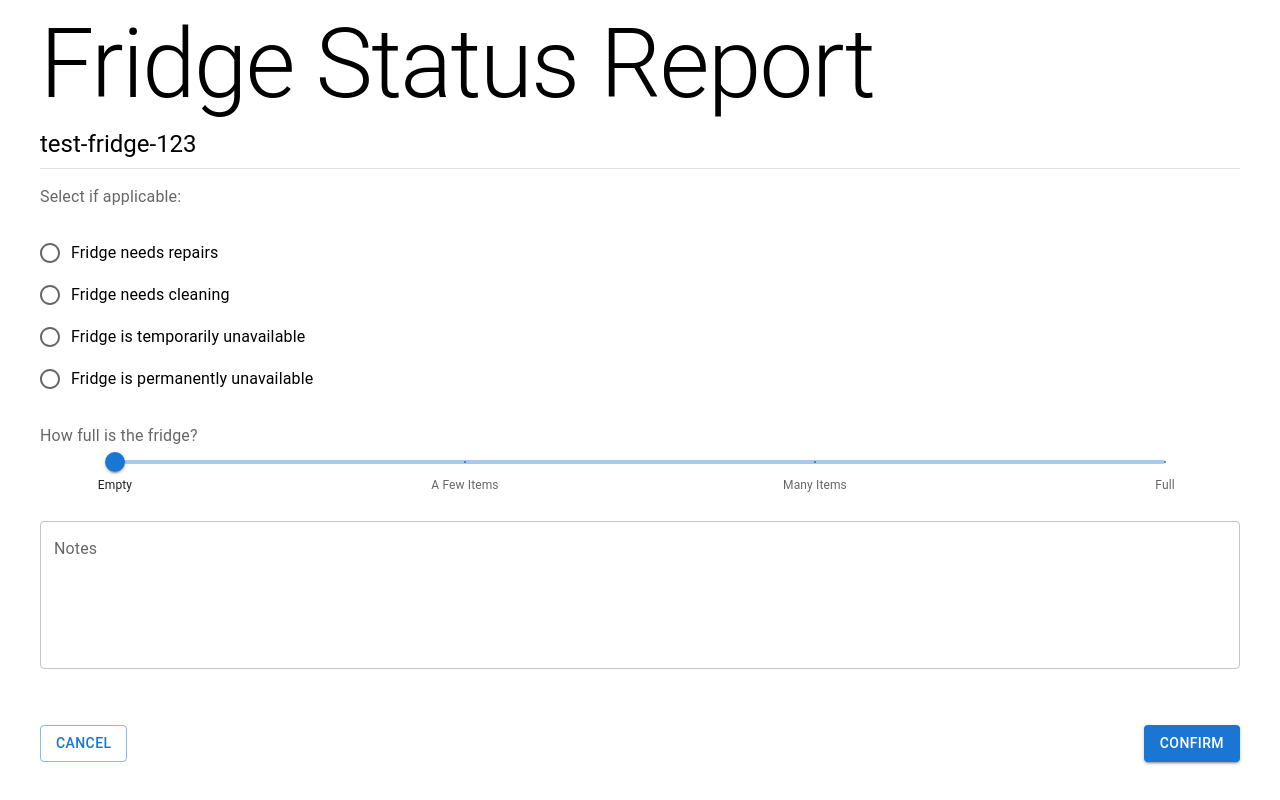
Test: FridgeReportPage › shows error feedback on fetch error
What coordinates should you click on to do the following:
click the button with aria-label "Submit status update"
I would click on:
 (1192, 743)
Its box is [1144, 725, 1240, 762].
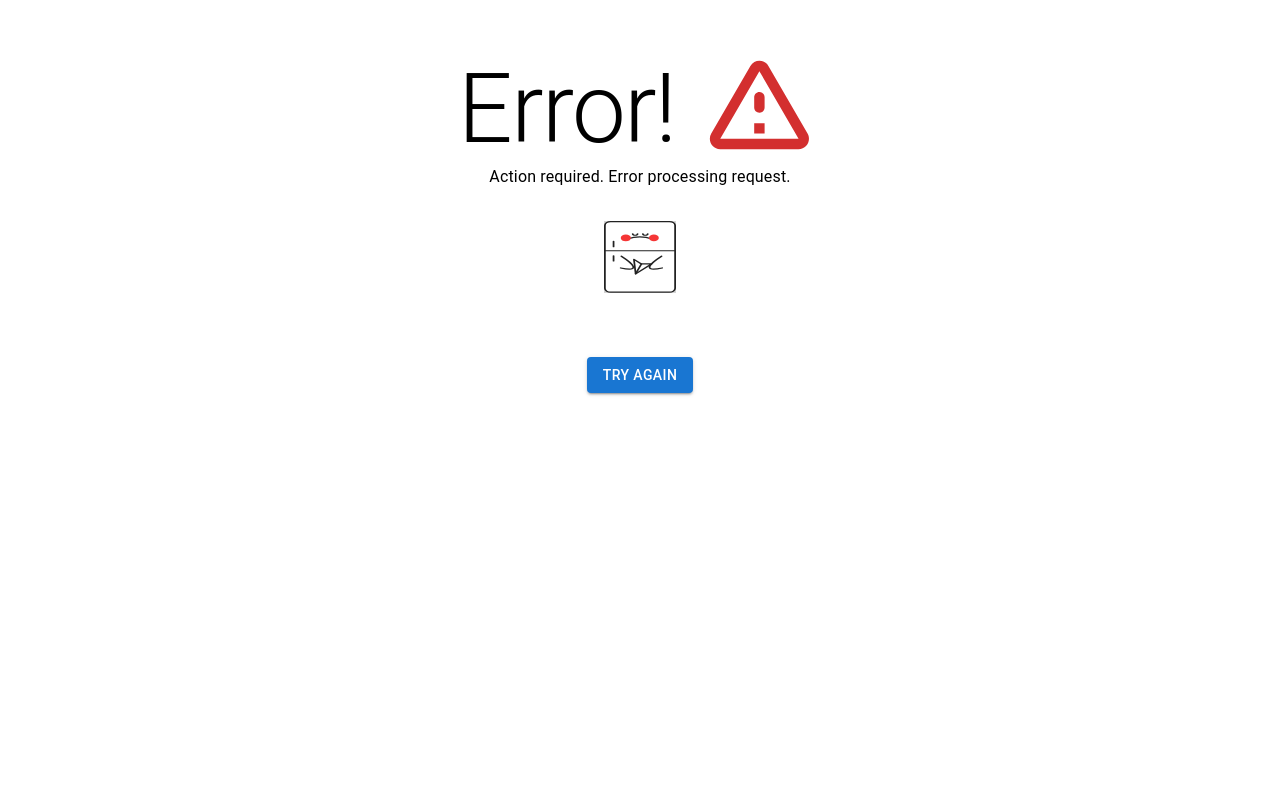
Now the heading "Error!" is shown, box [458, 40, 822, 165]
